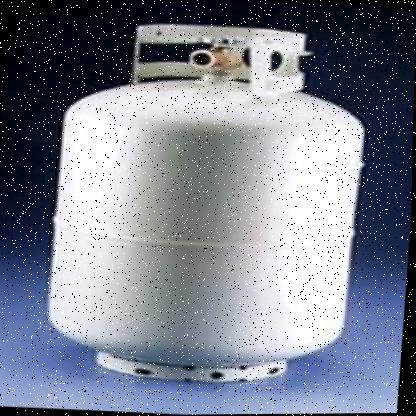gas-tank: (10, 0, 410, 412)
